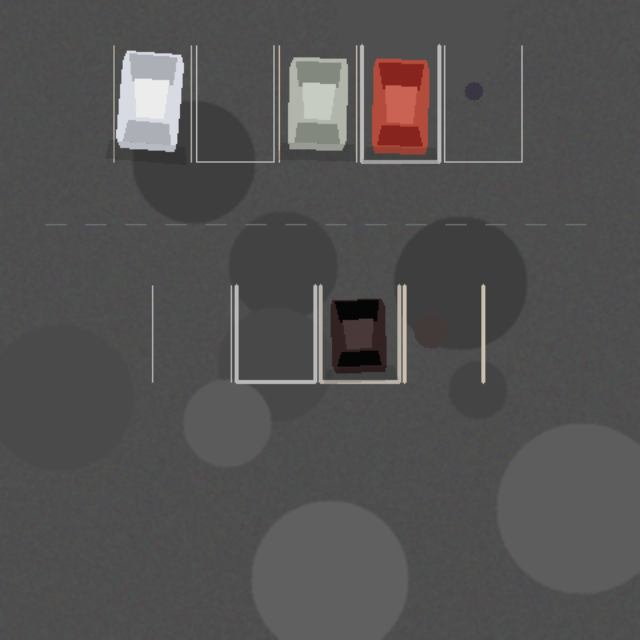space-empty: (196, 45, 273, 161), (444, 45, 521, 161), (152, 285, 231, 381), (236, 285, 315, 381), (404, 285, 483, 381)
space-occupied: (113, 45, 191, 161), (361, 45, 439, 161), (279, 45, 356, 161), (320, 285, 399, 381)
